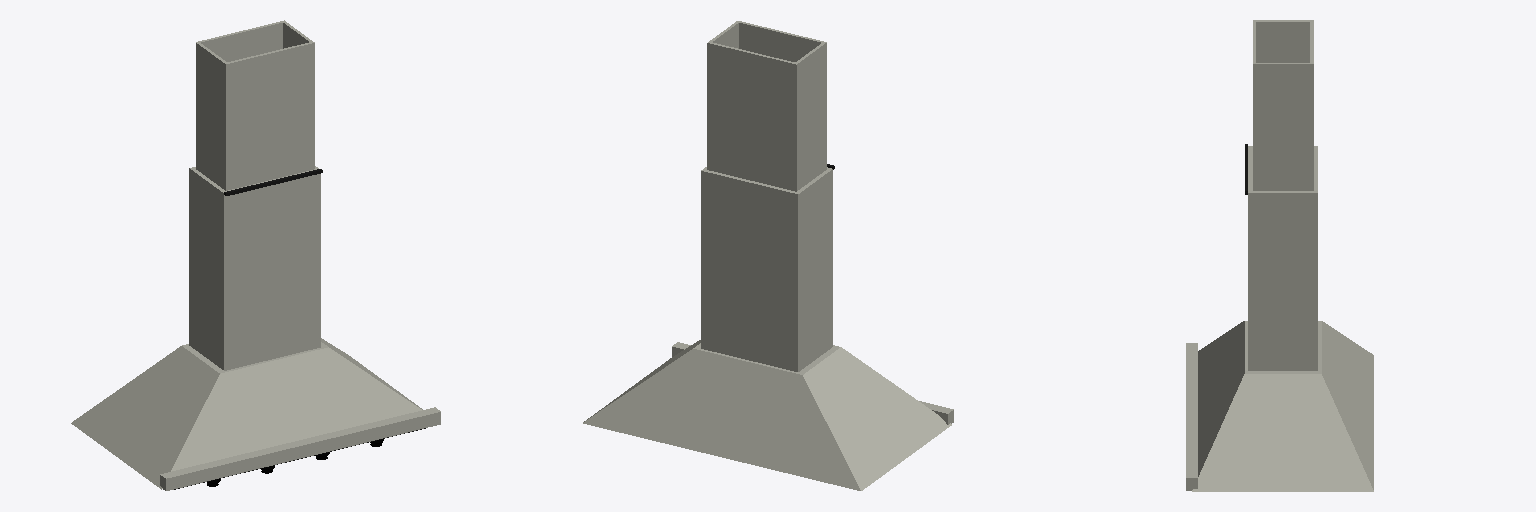
robot.urdf — chimney_range_hood:
<robot name="chimney_range_hood">
  <material name="brushed_stainless">
    <color rgba="0.7 0.7 0.66 1" />
    </material>
  <material name="dark_filter">
    <color rgba="0.055 0.055 0.055 1" />
    </material>
  <material name="shadowed_control_strip">
    <color rgba="0.12 0.12 0.12 1" />
    </material>
  <material name="satin_black_knobs">
    <color rgba="0.025 0.025 0.025 1" />
    </material>
  <material name="white_indicator_marks">
    <color rgba="0.94 0.92 0.84 1" />
    </material>
  <link name="hood">
    <visual name="canopy_shell">
      <geometry>
        <mesh filename="assets/meshes/canopy_shell.obj" />
        </geometry>
      <material name="brushed_stainless">
        <color rgba="0.7 0.7 0.66 1" />
        </material>
      </visual>
    <visual name="underside_panel">
      <origin xyz="0 -0.005 -0.005" rpy="0 0 0" />
      <geometry>
        <box size="0.84 0.43 0.01" />
        </geometry>
      <material name="brushed_stainless">
        <color rgba="0.7 0.7 0.66 1" />
        </material>
      </visual>
    <visual name="control_strip">
      <origin xyz="0 -0.225 -0.006" rpy="0 0 0" />
      <geometry>
        <box size="0.84 0.065 0.012" />
        </geometry>
      <material name="shadowed_control_strip">
        <color rgba="0.12 0.12 0.12 1" />
        </material>
      </visual>
    <visual name="front_lip">
      <origin xyz="0 -0.26 0.02" rpy="0 0 0" />
      <geometry>
        <box size="0.91 0.035 0.04" />
        </geometry>
      <material name="brushed_stainless">
        <color rgba="0.7 0.7 0.66 1" />
        </material>
      </visual>
    <visual name="filter_0">
      <origin xyz="-0.19 0.035 -0.012" rpy="0 0 0" />
      <geometry>
        <mesh filename="assets/meshes/grease_filter_panel.obj" />
        </geometry>
      <material name="dark_filter">
        <color rgba="0.055 0.055 0.055 1" />
        </material>
      </visual>
    <visual name="filter_1">
      <origin xyz="0.19 0.035 -0.012" rpy="0 0 0" />
      <geometry>
        <mesh filename="assets/meshes/grease_filter_panel.obj" />
        </geometry>
      <material name="dark_filter">
        <color rgba="0.055 0.055 0.055 1" />
        </material>
      </visual>
    <visual name="lower_chimney">
      <geometry>
        <mesh filename="assets/meshes/lower_chimney_shell.obj" />
        </geometry>
      <material name="brushed_stainless">
        <color rgba="0.7 0.7 0.66 1" />
        </material>
      </visual>
    <visual name="upper_chimney">
      <geometry>
        <mesh filename="assets/meshes/upper_chimney_shell.obj" />
        </geometry>
      <material name="brushed_stainless">
        <color rgba="0.7 0.7 0.66 1" />
        </material>
      </visual>
    <visual name="telescoping_seam">
      <origin xyz="0 -0.105 0.8" rpy="0 0 0" />
      <geometry>
        <box size="0.32 0.01 0.01" />
        </geometry>
      <material name="shadowed_control_strip">
        <color rgba="0.12 0.12 0.12 1" />
        </material>
      </visual>
    <collision name="canopy_shell">
      <geometry>
        <mesh filename="assets/meshes/canopy_shell.obj" />
        </geometry>
      </collision>
    <collision name="underside_panel">
      <origin xyz="0 -0.005 -0.005" rpy="0 0 0" />
      <geometry>
        <box size="0.84 0.43 0.01" />
        </geometry>
      </collision>
    <collision name="control_strip">
      <origin xyz="0 -0.225 -0.006" rpy="0 0 0" />
      <geometry>
        <box size="0.84 0.065 0.012" />
        </geometry>
      </collision>
    <collision name="front_lip">
      <origin xyz="0 -0.26 0.02" rpy="0 0 0" />
      <geometry>
        <box size="0.91 0.035 0.04" />
        </geometry>
      </collision>
    <collision name="filter_0">
      <origin xyz="-0.19 0.035 -0.012" rpy="0 0 0" />
      <geometry>
        <mesh filename="assets/meshes/grease_filter_panel.obj" />
        </geometry>
      </collision>
    <collision name="filter_1">
      <origin xyz="0.19 0.035 -0.012" rpy="0 0 0" />
      <geometry>
        <mesh filename="assets/meshes/grease_filter_panel.obj" />
        </geometry>
      </collision>
    <collision name="lower_chimney">
      <geometry>
        <mesh filename="assets/meshes/lower_chimney_shell.obj" />
        </geometry>
      </collision>
    <collision name="upper_chimney">
      <geometry>
        <mesh filename="assets/meshes/upper_chimney_shell.obj" />
        </geometry>
      </collision>
    <collision name="telescoping_seam">
      <origin xyz="0 -0.105 0.8" rpy="0 0 0" />
      <geometry>
        <box size="0.32 0.01 0.01" />
        </geometry>
      </collision>
    </link>
  <link name="knob_0">
    <visual name="knob_body">
      <origin xyz="0 0 0" rpy="3.14159 0 0" />
      <geometry>
        <mesh filename="assets/meshes/rotary_knob.obj" />
        </geometry>
      <material name="satin_black_knobs">
        <color rgba="0.025 0.025 0.025 1" />
        </material>
      </visual>
    <visual name="indicator_mark">
      <origin xyz="0 0.006 -0.0244" rpy="0 0 0" />
      <geometry>
        <box size="0.004 0.02 0.0008" />
        </geometry>
      <material name="white_indicator_marks">
        <color rgba="0.94 0.92 0.84 1" />
        </material>
      </visual>
    <collision name="knob_body">
      <origin xyz="0 0 0" rpy="3.14159 0 0" />
      <geometry>
        <mesh filename="assets/meshes/rotary_knob.obj" />
        </geometry>
      </collision>
    <collision name="indicator_mark">
      <origin xyz="0 0.006 -0.0244" rpy="0 0 0" />
      <geometry>
        <box size="0.004 0.02 0.0008" />
        </geometry>
      </collision>
    </link>
  <link name="knob_1">
    <visual name="knob_body">
      <origin xyz="0 0 0" rpy="3.14159 0 0" />
      <geometry>
        <mesh filename="assets/meshes/rotary_knob.obj" />
        </geometry>
      <material name="satin_black_knobs">
        <color rgba="0.025 0.025 0.025 1" />
        </material>
      </visual>
    <visual name="indicator_mark">
      <origin xyz="0 0.006 -0.0244" rpy="0 0 0" />
      <geometry>
        <box size="0.004 0.02 0.0008" />
        </geometry>
      <material name="white_indicator_marks">
        <color rgba="0.94 0.92 0.84 1" />
        </material>
      </visual>
    <collision name="knob_body">
      <origin xyz="0 0 0" rpy="3.14159 0 0" />
      <geometry>
        <mesh filename="assets/meshes/rotary_knob.obj" />
        </geometry>
      </collision>
    <collision name="indicator_mark">
      <origin xyz="0 0.006 -0.0244" rpy="0 0 0" />
      <geometry>
        <box size="0.004 0.02 0.0008" />
        </geometry>
      </collision>
    </link>
  <link name="knob_2">
    <visual name="knob_body">
      <origin xyz="0 0 0" rpy="3.14159 0 0" />
      <geometry>
        <mesh filename="assets/meshes/rotary_knob.obj" />
        </geometry>
      <material name="satin_black_knobs">
        <color rgba="0.025 0.025 0.025 1" />
        </material>
      </visual>
    <visual name="indicator_mark">
      <origin xyz="0 0.006 -0.0244" rpy="0 0 0" />
      <geometry>
        <box size="0.004 0.02 0.0008" />
        </geometry>
      <material name="white_indicator_marks">
        <color rgba="0.94 0.92 0.84 1" />
        </material>
      </visual>
    <collision name="knob_body">
      <origin xyz="0 0 0" rpy="3.14159 0 0" />
      <geometry>
        <mesh filename="assets/meshes/rotary_knob.obj" />
        </geometry>
      </collision>
    <collision name="indicator_mark">
      <origin xyz="0 0.006 -0.0244" rpy="0 0 0" />
      <geometry>
        <box size="0.004 0.02 0.0008" />
        </geometry>
      </collision>
    </link>
  <link name="knob_3">
    <visual name="knob_body">
      <origin xyz="0 0 0" rpy="3.14159 0 0" />
      <geometry>
        <mesh filename="assets/meshes/rotary_knob.obj" />
        </geometry>
      <material name="satin_black_knobs">
        <color rgba="0.025 0.025 0.025 1" />
        </material>
      </visual>
    <visual name="indicator_mark">
      <origin xyz="0 0.006 -0.0244" rpy="0 0 0" />
      <geometry>
        <box size="0.004 0.02 0.0008" />
        </geometry>
      <material name="white_indicator_marks">
        <color rgba="0.94 0.92 0.84 1" />
        </material>
      </visual>
    <collision name="knob_body">
      <origin xyz="0 0 0" rpy="3.14159 0 0" />
      <geometry>
        <mesh filename="assets/meshes/rotary_knob.obj" />
        </geometry>
      </collision>
    <collision name="indicator_mark">
      <origin xyz="0 0.006 -0.0244" rpy="0 0 0" />
      <geometry>
        <box size="0.004 0.02 0.0008" />
        </geometry>
      </collision>
    </link>
  <joint name="hood_to_knob_0" type="continuous">
    <origin xyz="-0.27 -0.225 -0.012" rpy="0 0 0" />
    <parent link="hood" />
    <child link="knob_0" />
    <axis xyz="0 0 1" />
    <limit effort="0.35" velocity="6" />
    </joint>
  <joint name="hood_to_knob_1" type="continuous">
    <origin xyz="-0.09 -0.225 -0.012" rpy="0 0 0" />
    <parent link="hood" />
    <child link="knob_1" />
    <axis xyz="0 0 1" />
    <limit effort="0.35" velocity="6" />
    </joint>
  <joint name="hood_to_knob_2" type="continuous">
    <origin xyz="0.09 -0.225 -0.012" rpy="0 0 0" />
    <parent link="hood" />
    <child link="knob_2" />
    <axis xyz="0 0 1" />
    <limit effort="0.35" velocity="6" />
    </joint>
  <joint name="hood_to_knob_3" type="continuous">
    <origin xyz="0.27 -0.225 -0.012" rpy="0 0 0" />
    <parent link="hood" />
    <child link="knob_3" />
    <axis xyz="0 0 1" />
    <limit effort="0.35" velocity="6" />
    </joint>
  </robot>

--- Facts derived from the render (not from the file) ---
3 views of the same robot in one strip: view 1: azimuth 30°, elevation 25°; view 2: azimuth 150°, elevation 25°; view 3: azimuth 270°, elevation 25° (orthographic).
Robot: chimney_range_hood — 5 links, 4 joints (4 continuous); root link hood; default pose: every joint at zero.
Visible links, largest first — view 1: hood; view 2: hood; view 3: hood.
Link boxes in pixels (left/top/right/bottom): hood: left=71, top=20, right=440, bottom=490; hood: left=583, top=21, right=953, bottom=490; hood: left=1186, top=20, right=1373, bottom=491.
Size in the robot's own frame: 0.92 by 0.5375 by 1.24 metres.
9 mesh visuals loaded from 5 distinct referenced files (5 OBJ).
